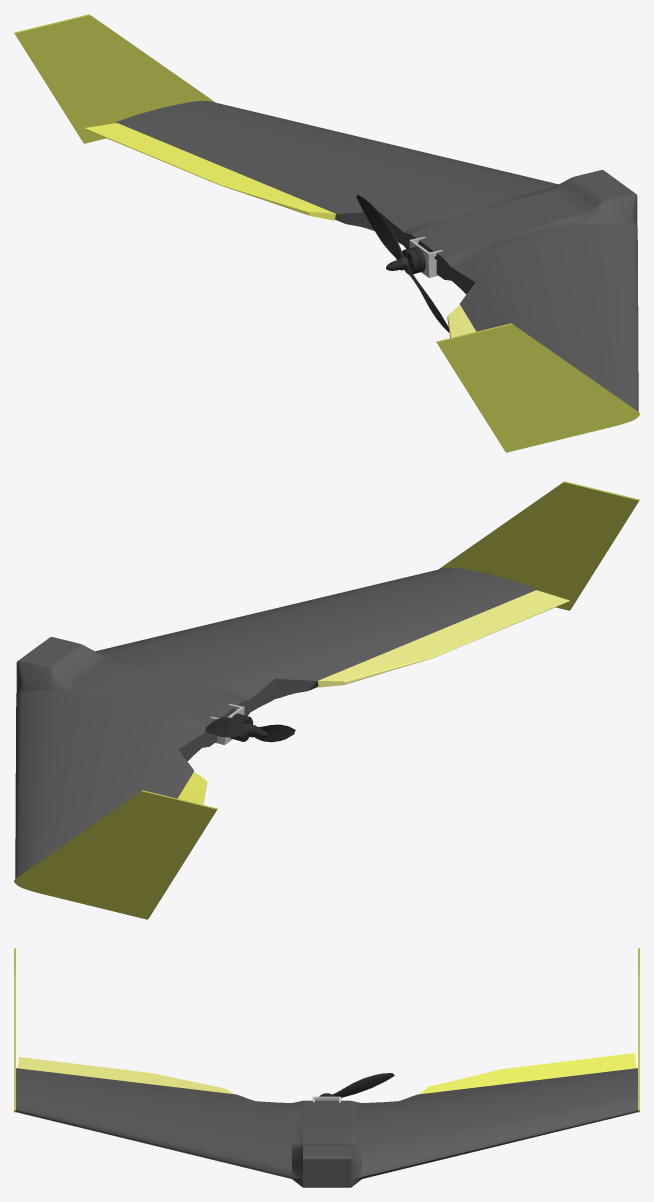
Rendered from TBSC_assembly.obj.
3 renders of one model, top to bottom at view 1: azimuth 30°, elevation 25°; view 2: azimuth 150°, elevation 25°; view 3: azimuth 270°, elevation 25°, orthographic. The views are drawn at different scales.
Visible parts, largest first — view 1: mesh 4 elevonLeft-1, mesh 1 winglet-1, mesh 3 motorCap-1, mesh 6 motorMountAssem-1/motorMountSide-2, mesh 2 winglet-2; view 2: mesh 4 elevonLeft-1, mesh 1 winglet-1, mesh 7 motorMountAssem-1/motorMountBack-1, mesh 6 motorMountAssem-1/motorMountSide-2; view 3: mesh 4 elevonLeft-1, mesh 3 motorCap-1, mesh 7 motorMountAssem-1/motorMountBack-1, mesh 1 winglet-1, mesh 6 motorMountAssem-1/motorMountSide-2.
Boxes of the visible parts, bbox=[...] form: mesh 4 elevonLeft-1: bbox=[116, 101, 638, 411]; mesh 1 winglet-1: bbox=[14, 14, 639, 452]; mesh 3 motorCap-1: bbox=[84, 123, 335, 220]; mesh 6 motorMountAssem-1/motorMountSide-2: bbox=[356, 194, 449, 332]; mesh 2 winglet-2: bbox=[386, 246, 425, 274]; mesh 4 elevonLeft-1: bbox=[15, 567, 537, 878]; mesh 1 winglet-1: bbox=[14, 481, 639, 919]; mesh 7 motorMountAssem-1/motorMountBack-1: bbox=[318, 590, 569, 687]; mesh 6 motorMountAssem-1/motorMountSide-2: bbox=[205, 717, 295, 742]; mesh 4 elevonLeft-1: bbox=[16, 1068, 637, 1187]; mesh 3 motorCap-1: bbox=[419, 1053, 636, 1094]; mesh 7 motorMountAssem-1/motorMountBack-1: bbox=[17, 1057, 234, 1094]; mesh 1 winglet-1: bbox=[14, 948, 639, 1112]; mesh 6 motorMountAssem-1/motorMountSide-2: bbox=[332, 1073, 394, 1097].
Size of the model in its own units: 0.4721 by 0.1782 by 0.8753.
